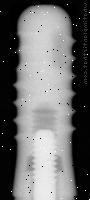Keystone Dental: (11, 4, 77, 200)
